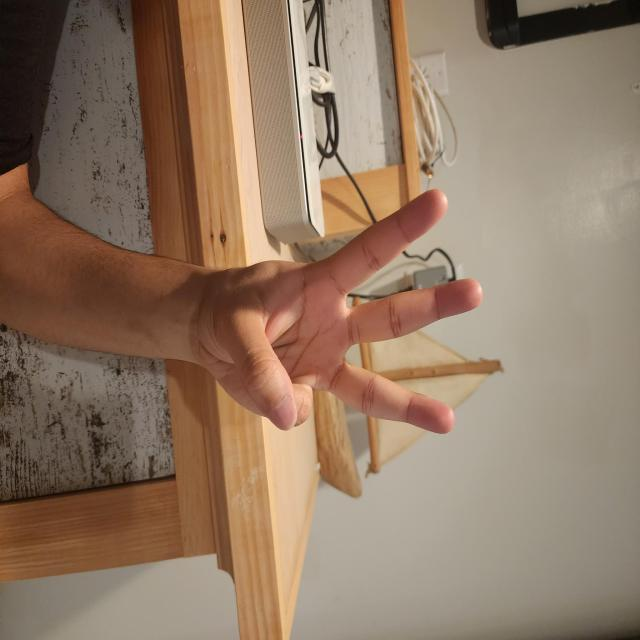W: (295, 206, 492, 582)
